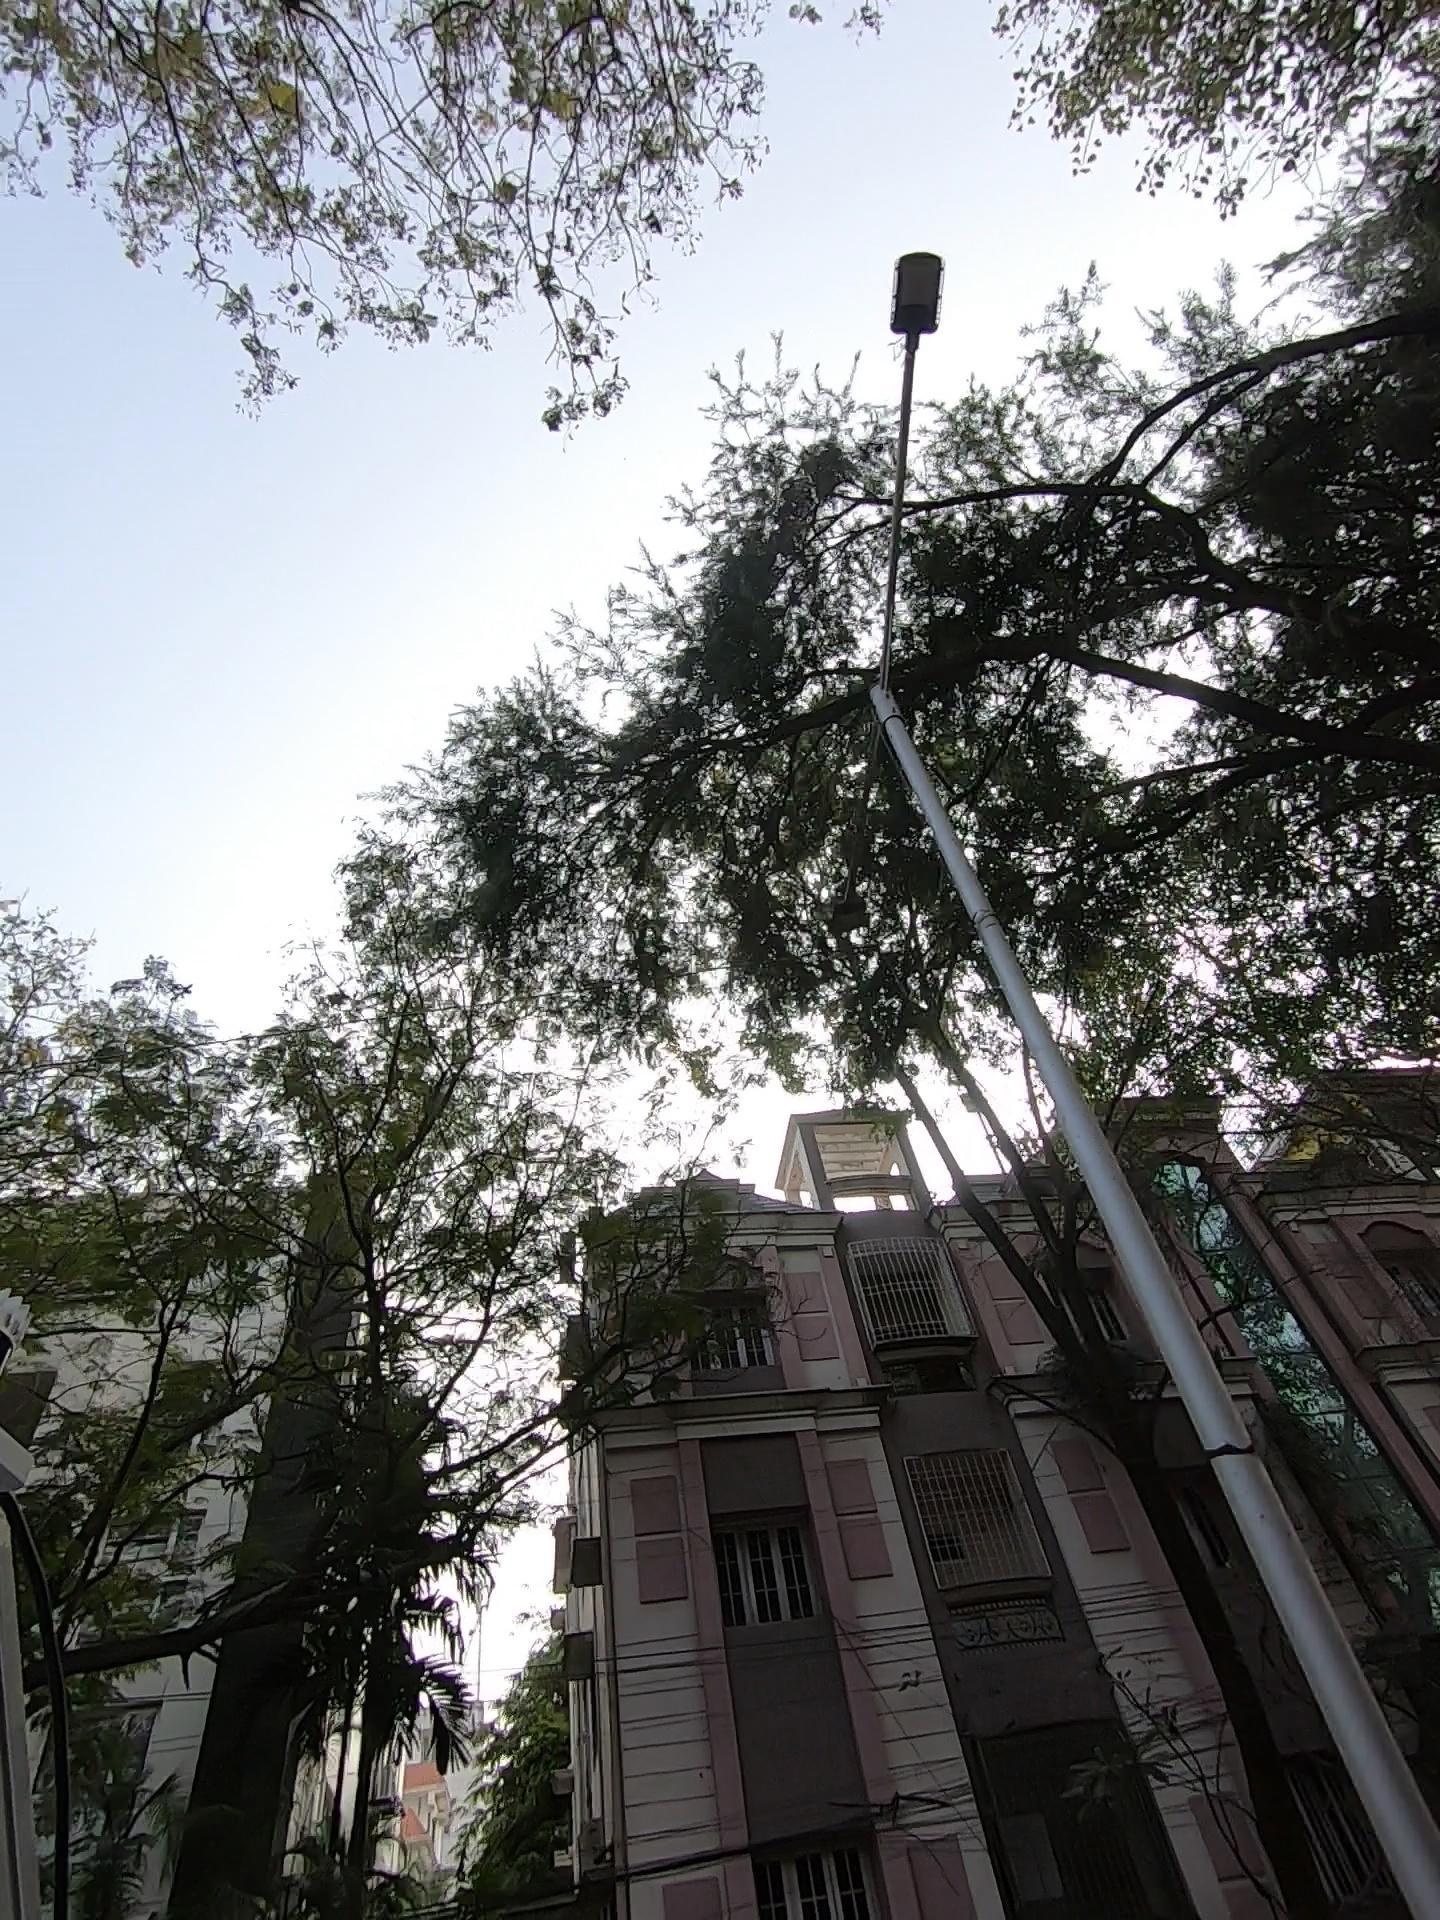off: (740, 251, 991, 652)
